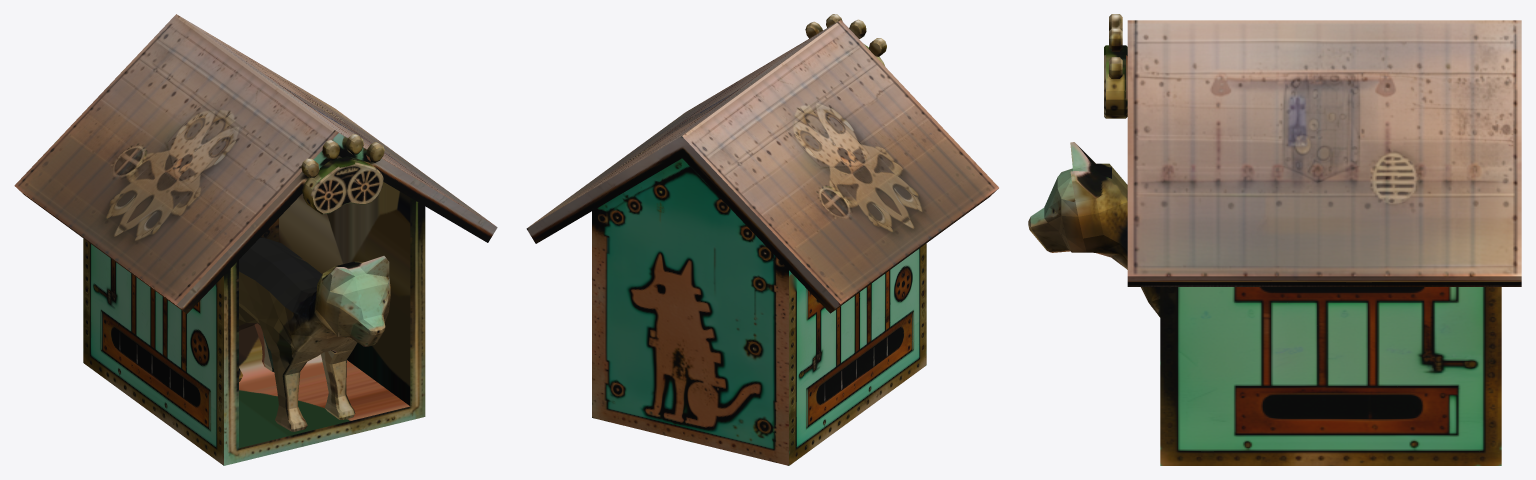
The picture shows the model from 3 angles, left to right: view 1: azimuth 30°, elevation 25°; view 2: azimuth 150°, elevation 25°; view 3: azimuth 270°, elevation 25°; orthographic projection. The views are drawn at different scales.
Visible parts, largest first — view 1: textured.obj; view 2: textured.obj; view 3: textured.obj.
Part boxes in pixels (x1=…): textured.obj: x1=14, y1=14, x2=497, y2=465; textured.obj: x1=526, y1=14, x2=998, y2=465; textured.obj: x1=1028, y1=14, x2=1521, y2=465.
Size of the model in its own units: 1.82 by 1.73 by 2.
